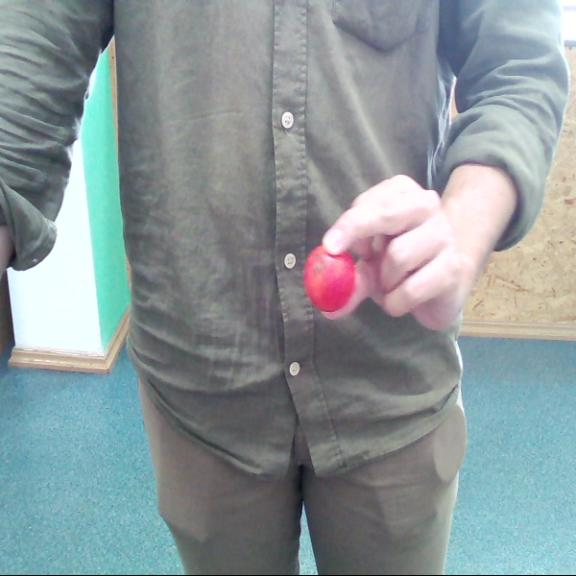ball: (306, 245, 355, 310)
